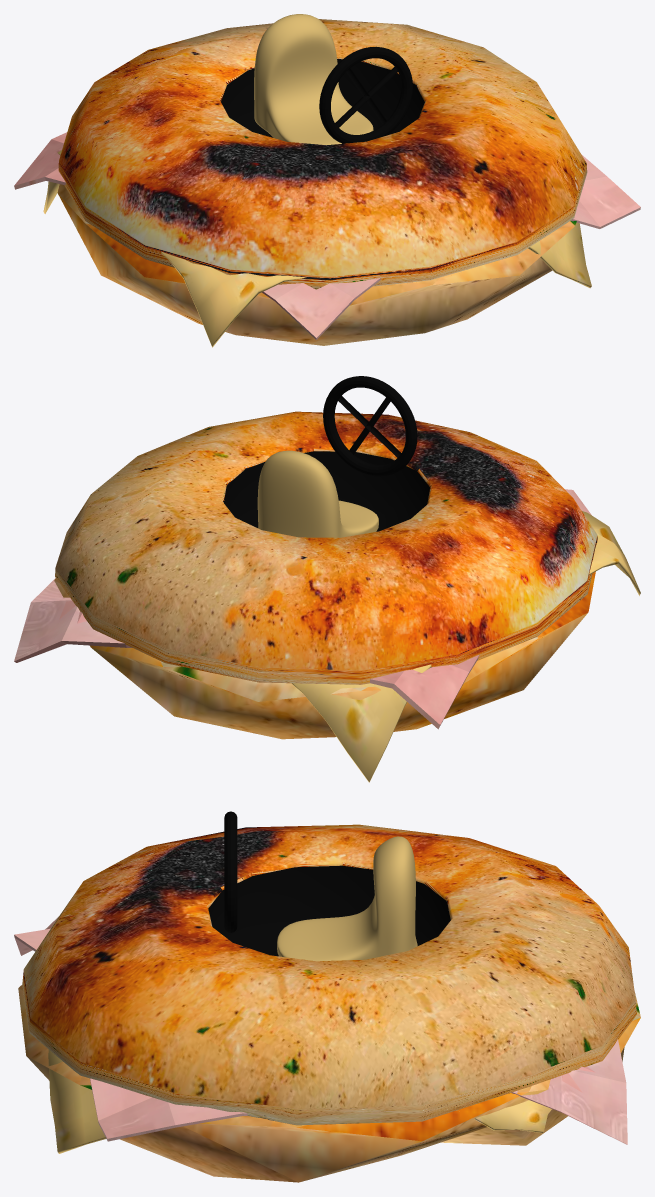
The model's file is carro arepa.fbx.
The picture shows the model from 3 angles, top to bottom: view 1: azimuth 30°, elevation 25°; view 2: azimuth 150°, elevation 25°; view 3: azimuth 270°, elevation 25°; orthographic projection. The views are drawn at different scales.
Parts seen in each view (by area): view 1: Cubo.002; view 2: Cubo.002; view 3: Cubo.002.
Boxes of the visible parts, x1,y1,x2,y2 form: Cubo.002: [14, 14, 640, 347]; Cubo.002: [14, 376, 640, 782]; Cubo.002: [14, 811, 640, 1182].
Bounding box in the file's own units: 429 × 225 × 456.
